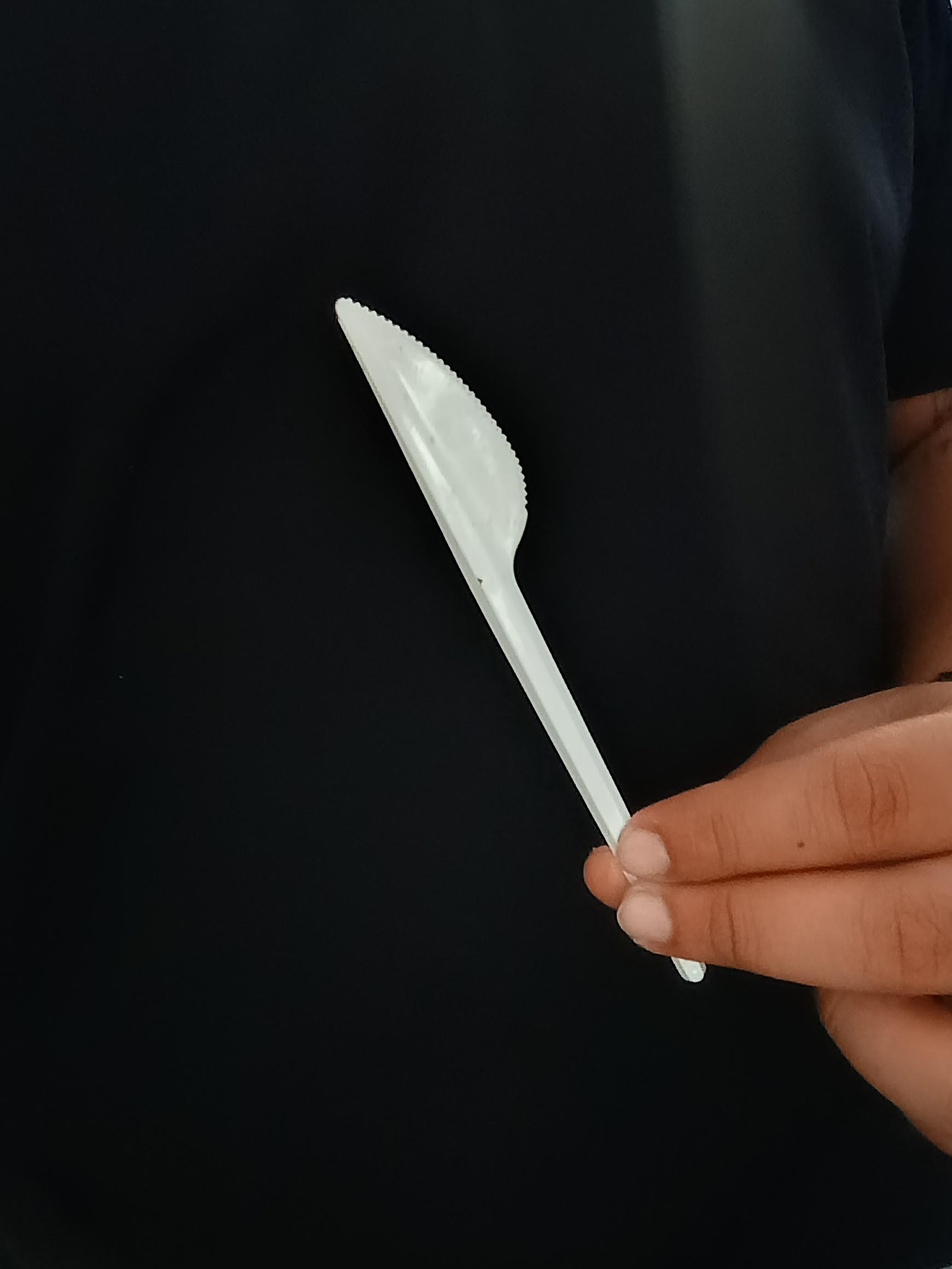Ordinario: (336, 296, 627, 851)
